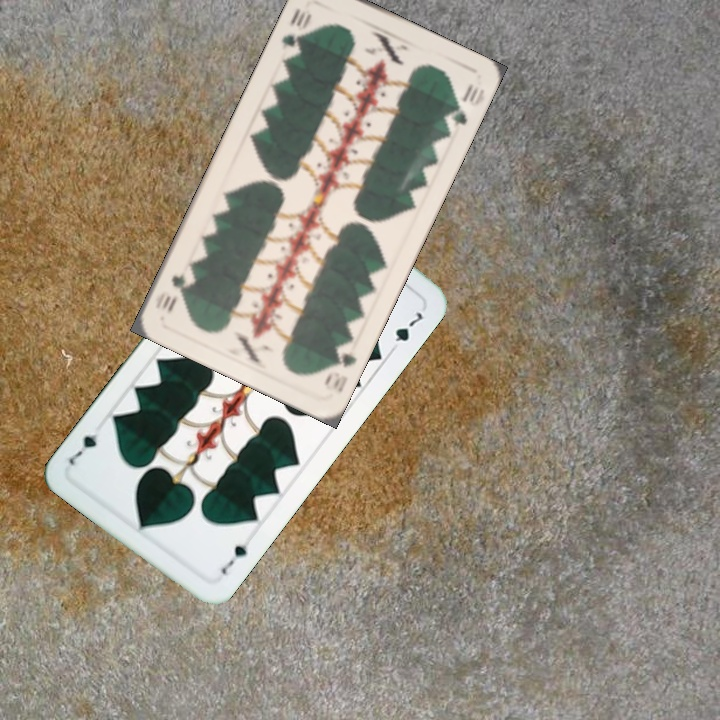G10: (320, 338, 360, 396), (277, 4, 314, 59)
G7: (217, 540, 249, 577)
